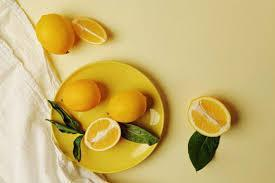lemon: (186, 96, 232, 138), (35, 14, 76, 54), (61, 79, 102, 111), (107, 90, 146, 123), (84, 118, 121, 152), (71, 16, 107, 46)
